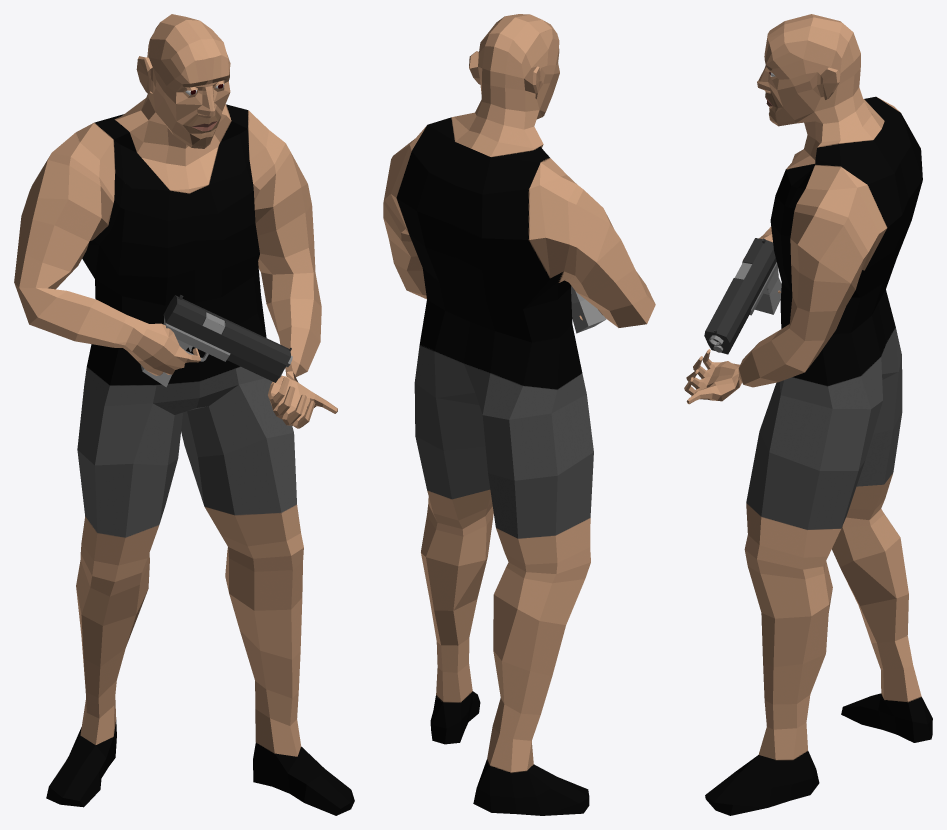
File: PlayerIdle(30).obj
3 renders of one model, left to right at view 1: azimuth 30°, elevation 25°; view 2: azimuth 150°, elevation 25°; view 3: azimuth 270°, elevation 25°, orthographic. The views are drawn at different scales.
Parts seen in each view (by area): view 1: Plane002, Box003; view 2: Plane002, Box003; view 3: Plane002, Box003.
Part boxes in pixels (x1,y1,x2,y2): Plane002: (14, 14, 354, 815); Box003: (140, 295, 292, 387); Plane002: (383, 14, 655, 815); Box003: (571, 286, 606, 333); Plane002: (684, 14, 932, 815); Box003: (704, 238, 781, 354).
Bounding box in the file's own units: 675 × 1808 × 550.
